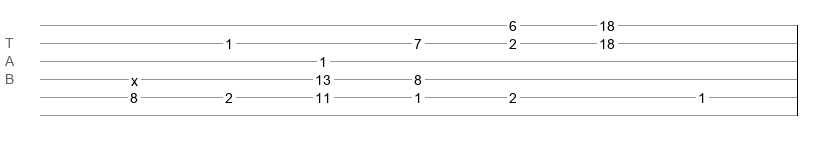1: (225, 36, 233, 46), (319, 54, 327, 64), (414, 90, 422, 100), (698, 90, 706, 100)
11: (315, 90, 331, 100)
13: (315, 72, 331, 82)
18: (599, 36, 615, 46), (599, 18, 615, 28)
2: (225, 90, 233, 100), (509, 36, 517, 46), (509, 90, 517, 100)
6: (509, 18, 517, 28)
7: (414, 36, 422, 46)
8: (130, 90, 138, 100), (414, 72, 422, 82)
x: (131, 73, 138, 81)
